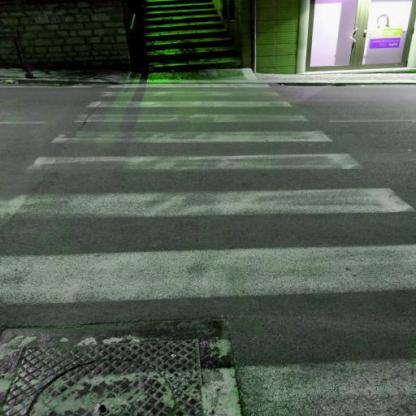crosswalk: (22, 128, 370, 180), (83, 90, 296, 112)
